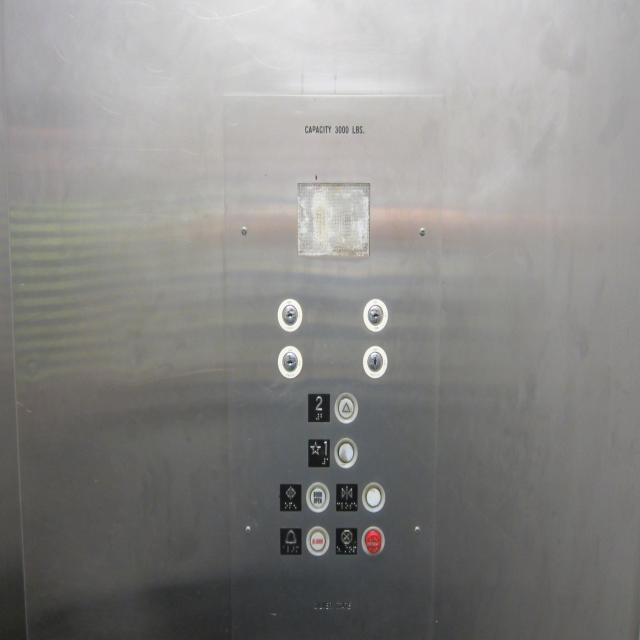2: (307, 392, 331, 423)
alarm: (278, 526, 302, 555)
close: (335, 483, 358, 512)
empty: (333, 437, 358, 468), (362, 482, 386, 512)
keyhole: (362, 346, 388, 378), (278, 298, 302, 331), (363, 298, 387, 331), (278, 345, 302, 378)
open: (279, 482, 302, 512)
s1: (306, 438, 331, 468)
stop: (334, 526, 358, 556)
text: (305, 525, 330, 556), (306, 482, 329, 512)
text_emergency: (362, 526, 384, 555)
up: (334, 392, 358, 423)
